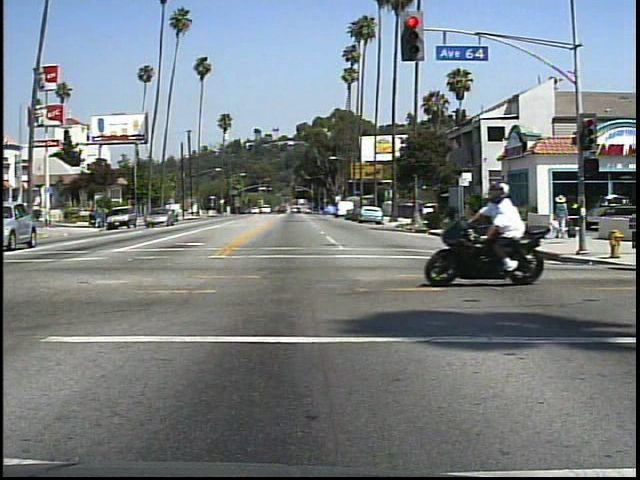person: (479, 176, 541, 281), (553, 192, 575, 238)
